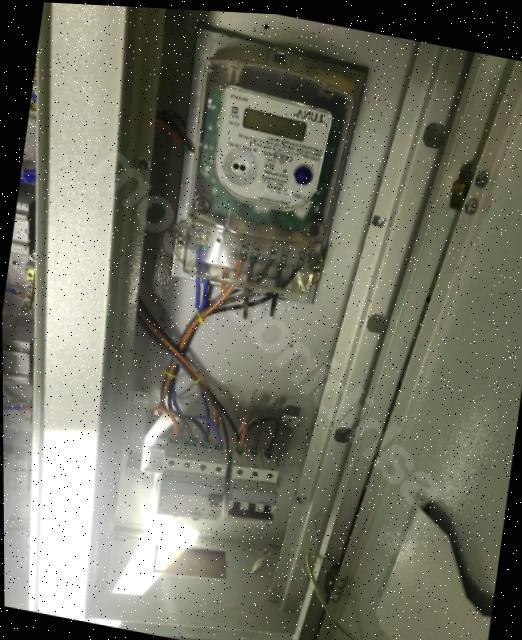electric-meter-detection: (175, 56, 352, 299)
